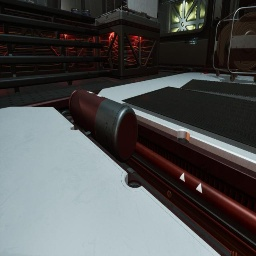FirstAidBox ,: (113, 5, 129, 13)
NitrogenTank ,: (68, 88, 138, 163)
